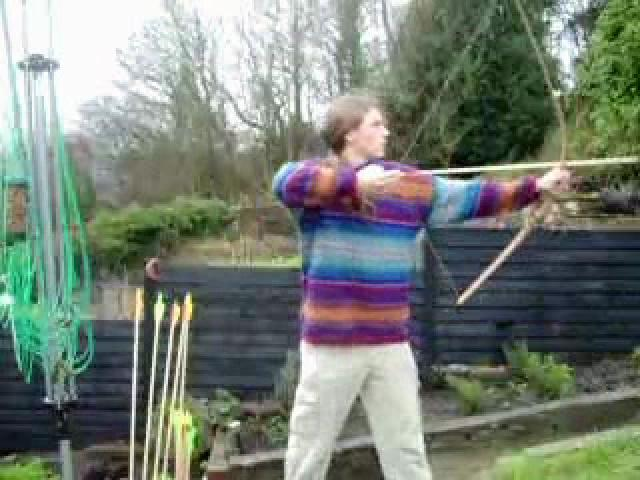I: (269, 95, 566, 474)
